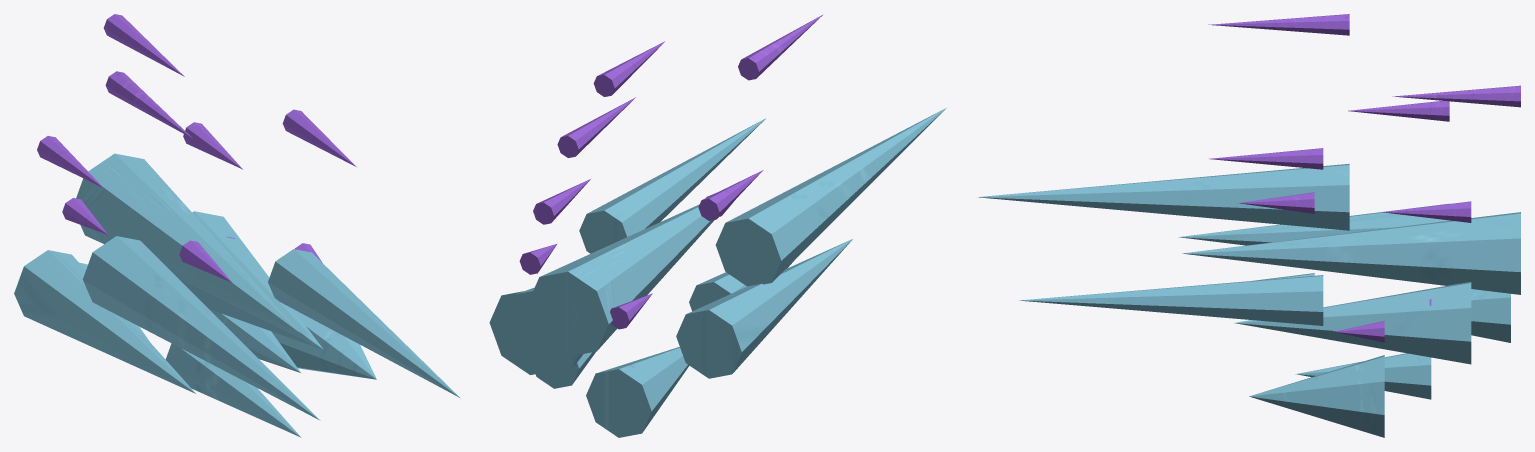
Rendered from ice_spire_cluster.obj.
3 renders of one model, left to right at view 1: azimuth 30°, elevation 25°; view 2: azimuth 150°, elevation 25°; view 3: azimuth 270°, elevation 25°, orthographic. The views are drawn at different scales.
Size of the model in its own units: 9.16 by 10.74 by 16.04.
1 material, 1 textured.
